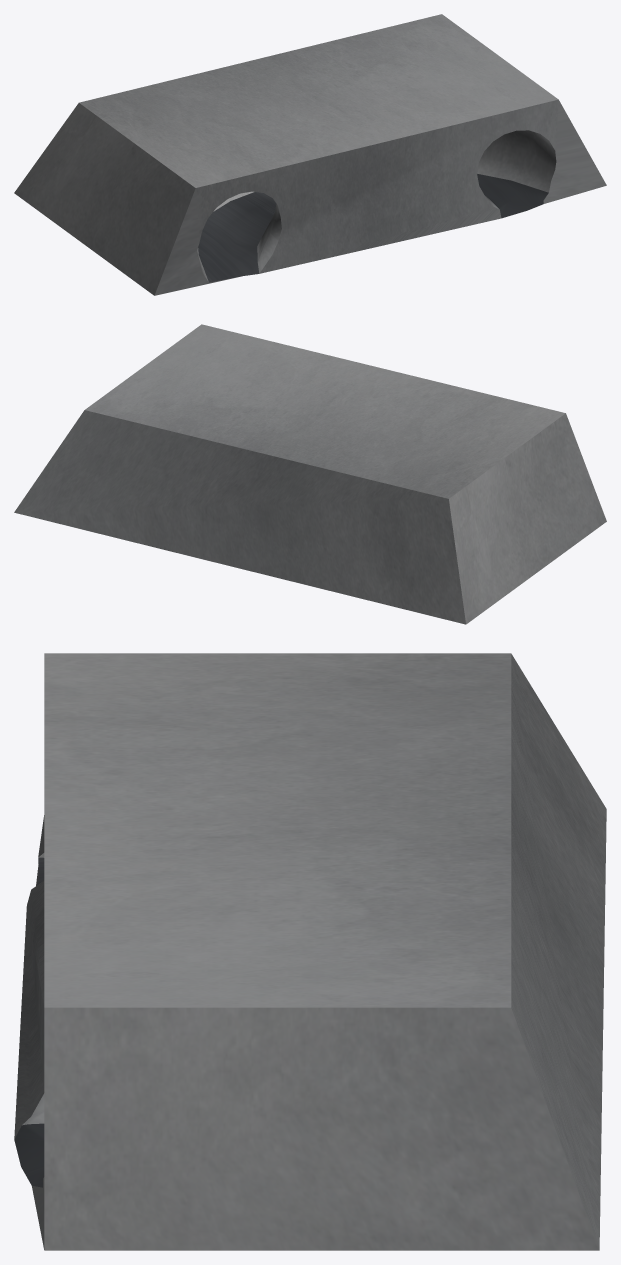
The model's file is tunnel4.fbx.
3 views of the same model, one above another, from view 1: azimuth 30°, elevation 25°; view 2: azimuth 150°, elevation 25°; view 3: azimuth 270°, elevation 25° (orthographic). The views are drawn at different scales.
Parts seen in each view (by area): view 1: pCube2; view 2: pCube2; view 3: pCube2.
Boxes of the visible parts, x1,y1,x2,y2 form: pCube2: (14,14,606,295); pCube2: (14,324,606,624); pCube2: (14,653,606,1250).
Bounding box in the file's own units: 110 × 22.77 × 62.47.
2 materials, 2 textured.
